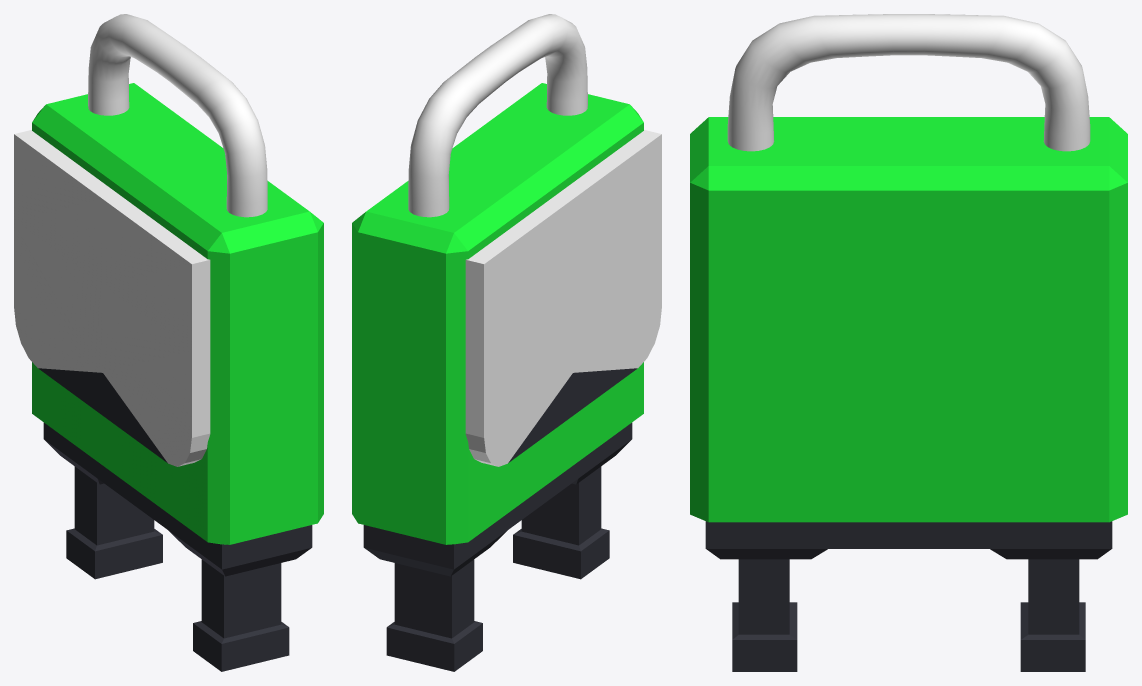
The model's file is Key_Lock_Green.fbx.
The picture shows the model from 3 angles, left to right: view 1: azimuth 30°, elevation 25°; view 2: azimuth 150°, elevation 25°; view 3: azimuth 270°, elevation 25°; orthographic projection. The views are drawn at different scales.
Parts seen in each view (by area): view 1: Key_Lock_Green; view 2: Key_Lock_Green; view 3: Key_Lock_Green.
Part boxes in pixels (bbox=[...]): Key_Lock_Green: bbox=[14, 14, 323, 671]; Key_Lock_Green: bbox=[352, 14, 661, 671]; Key_Lock_Green: bbox=[690, 14, 1127, 671].
Bounding box in the file's own units: 15.19 × 60.97 × 37.98.
